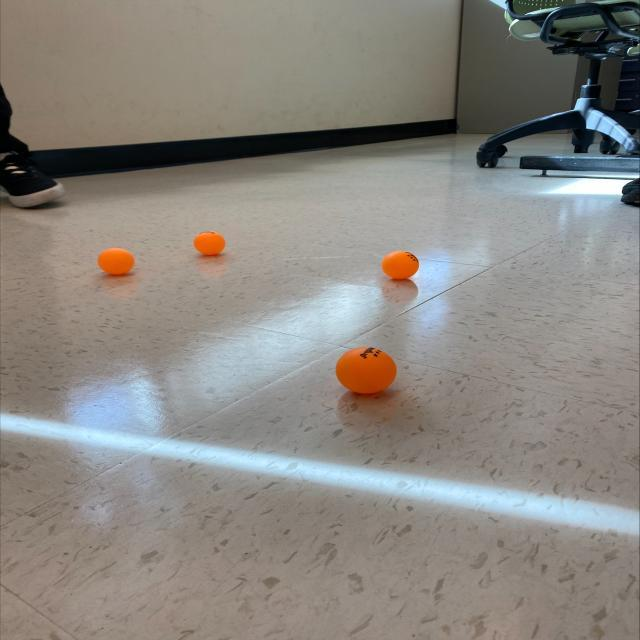ping-pong-ball: (332, 345, 399, 395), (378, 248, 422, 280), (96, 244, 136, 278), (192, 229, 227, 256)
